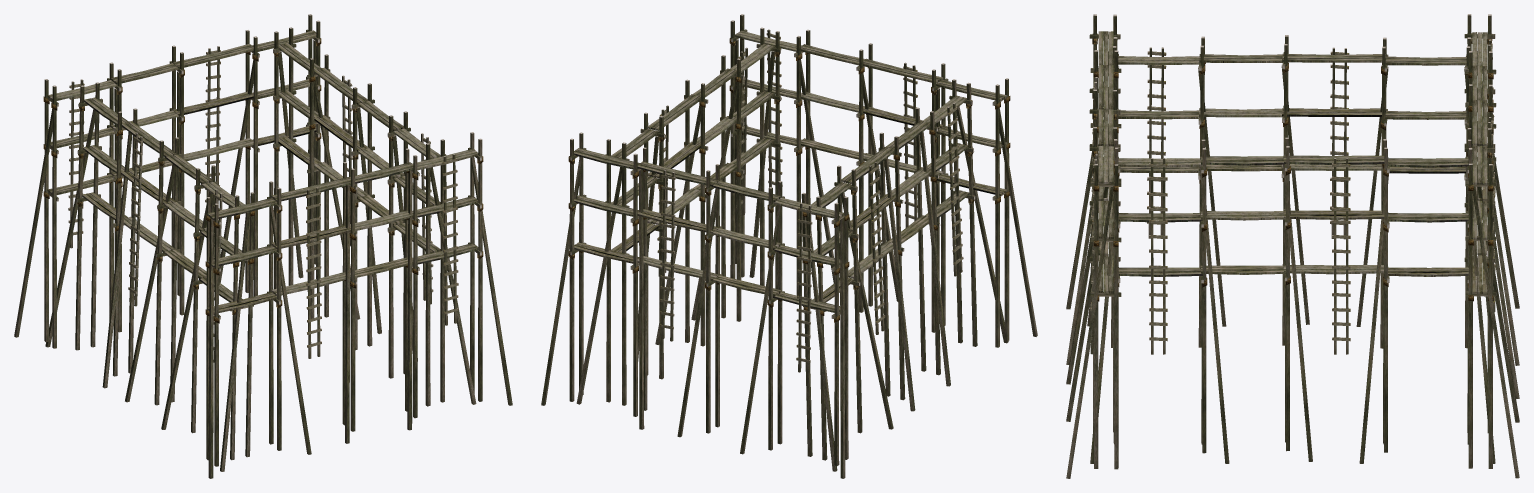
The model's file is scaffold_up_5x7_temple.glb.
3 renders of one model, left to right at view 1: azimuth 30°, elevation 25°; view 2: azimuth 150°, elevation 25°; view 3: azimuth 270°, elevation 25°, orthographic. The views are drawn at different scales.
Parts seen in each view (by area): view 1: scaffold_up_5x7_temple_part0; view 2: scaffold_up_5x7_temple_part0; view 3: scaffold_up_5x7_temple_part0.
Boxes of the visible parts, bbox=[...] form: scaffold_up_5x7_temple_part0: bbox=[14, 14, 512, 478]; scaffold_up_5x7_temple_part0: bbox=[541, 14, 1037, 478]; scaffold_up_5x7_temple_part0: bbox=[1066, 14, 1519, 478].
Bounding box in the file's own units: 5.64 × 4.8 × 6.28.
1 material, 1 textured.
